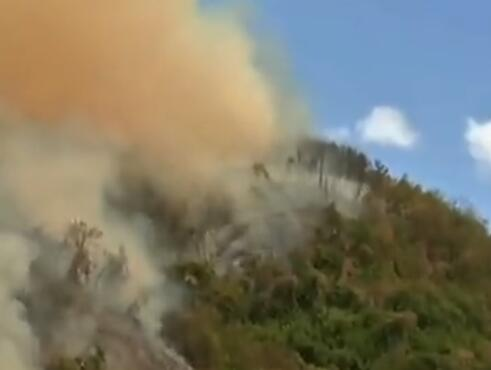yanwu: (0, 0, 314, 369)
